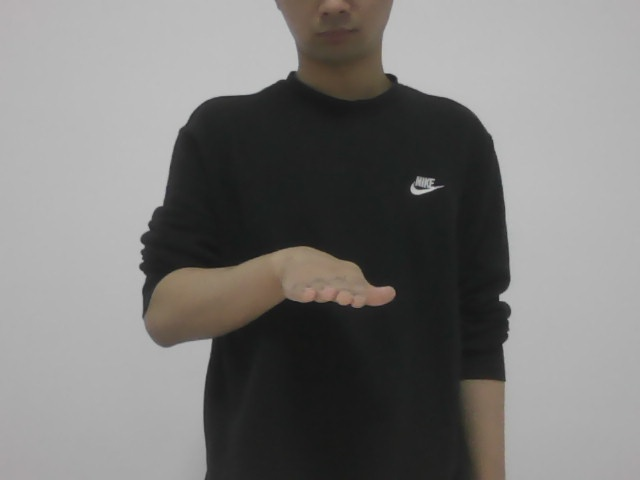slow: (280, 243, 407, 317)
